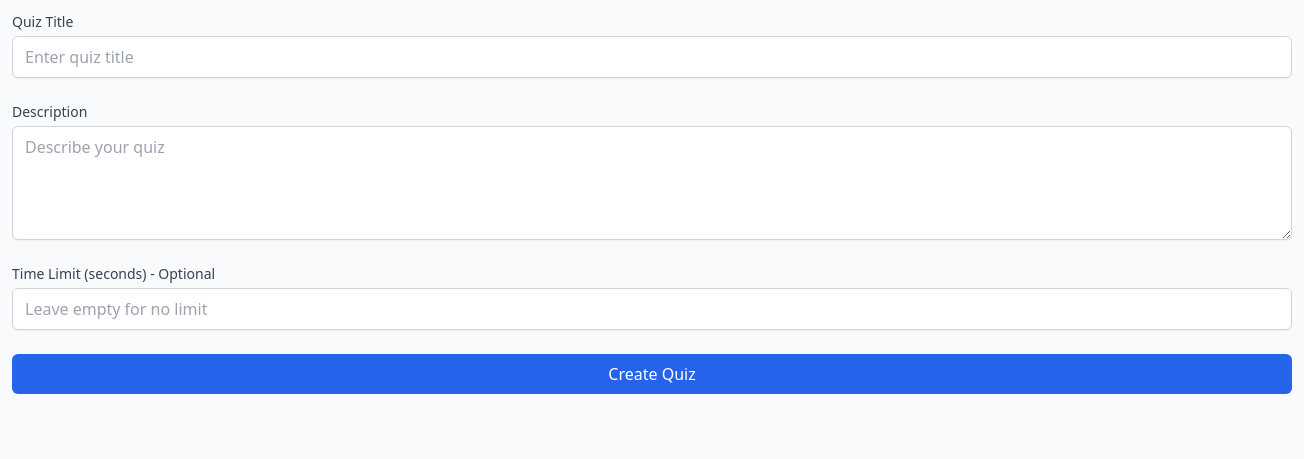
CreateQuizForm › displays validation errors for empty fields
Click the button "Create Quiz" at (652, 374), box [12, 354, 1292, 394]
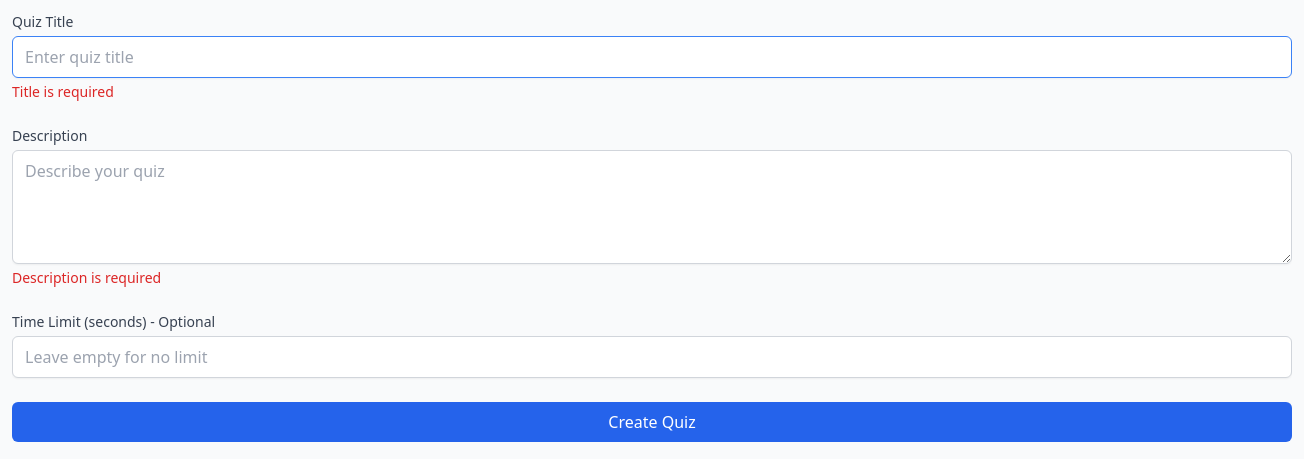
Expected: the text "Title is required" is shown, [12, 82, 114, 101]
Expected: the text "Description is required" is shown, [12, 268, 161, 287]
